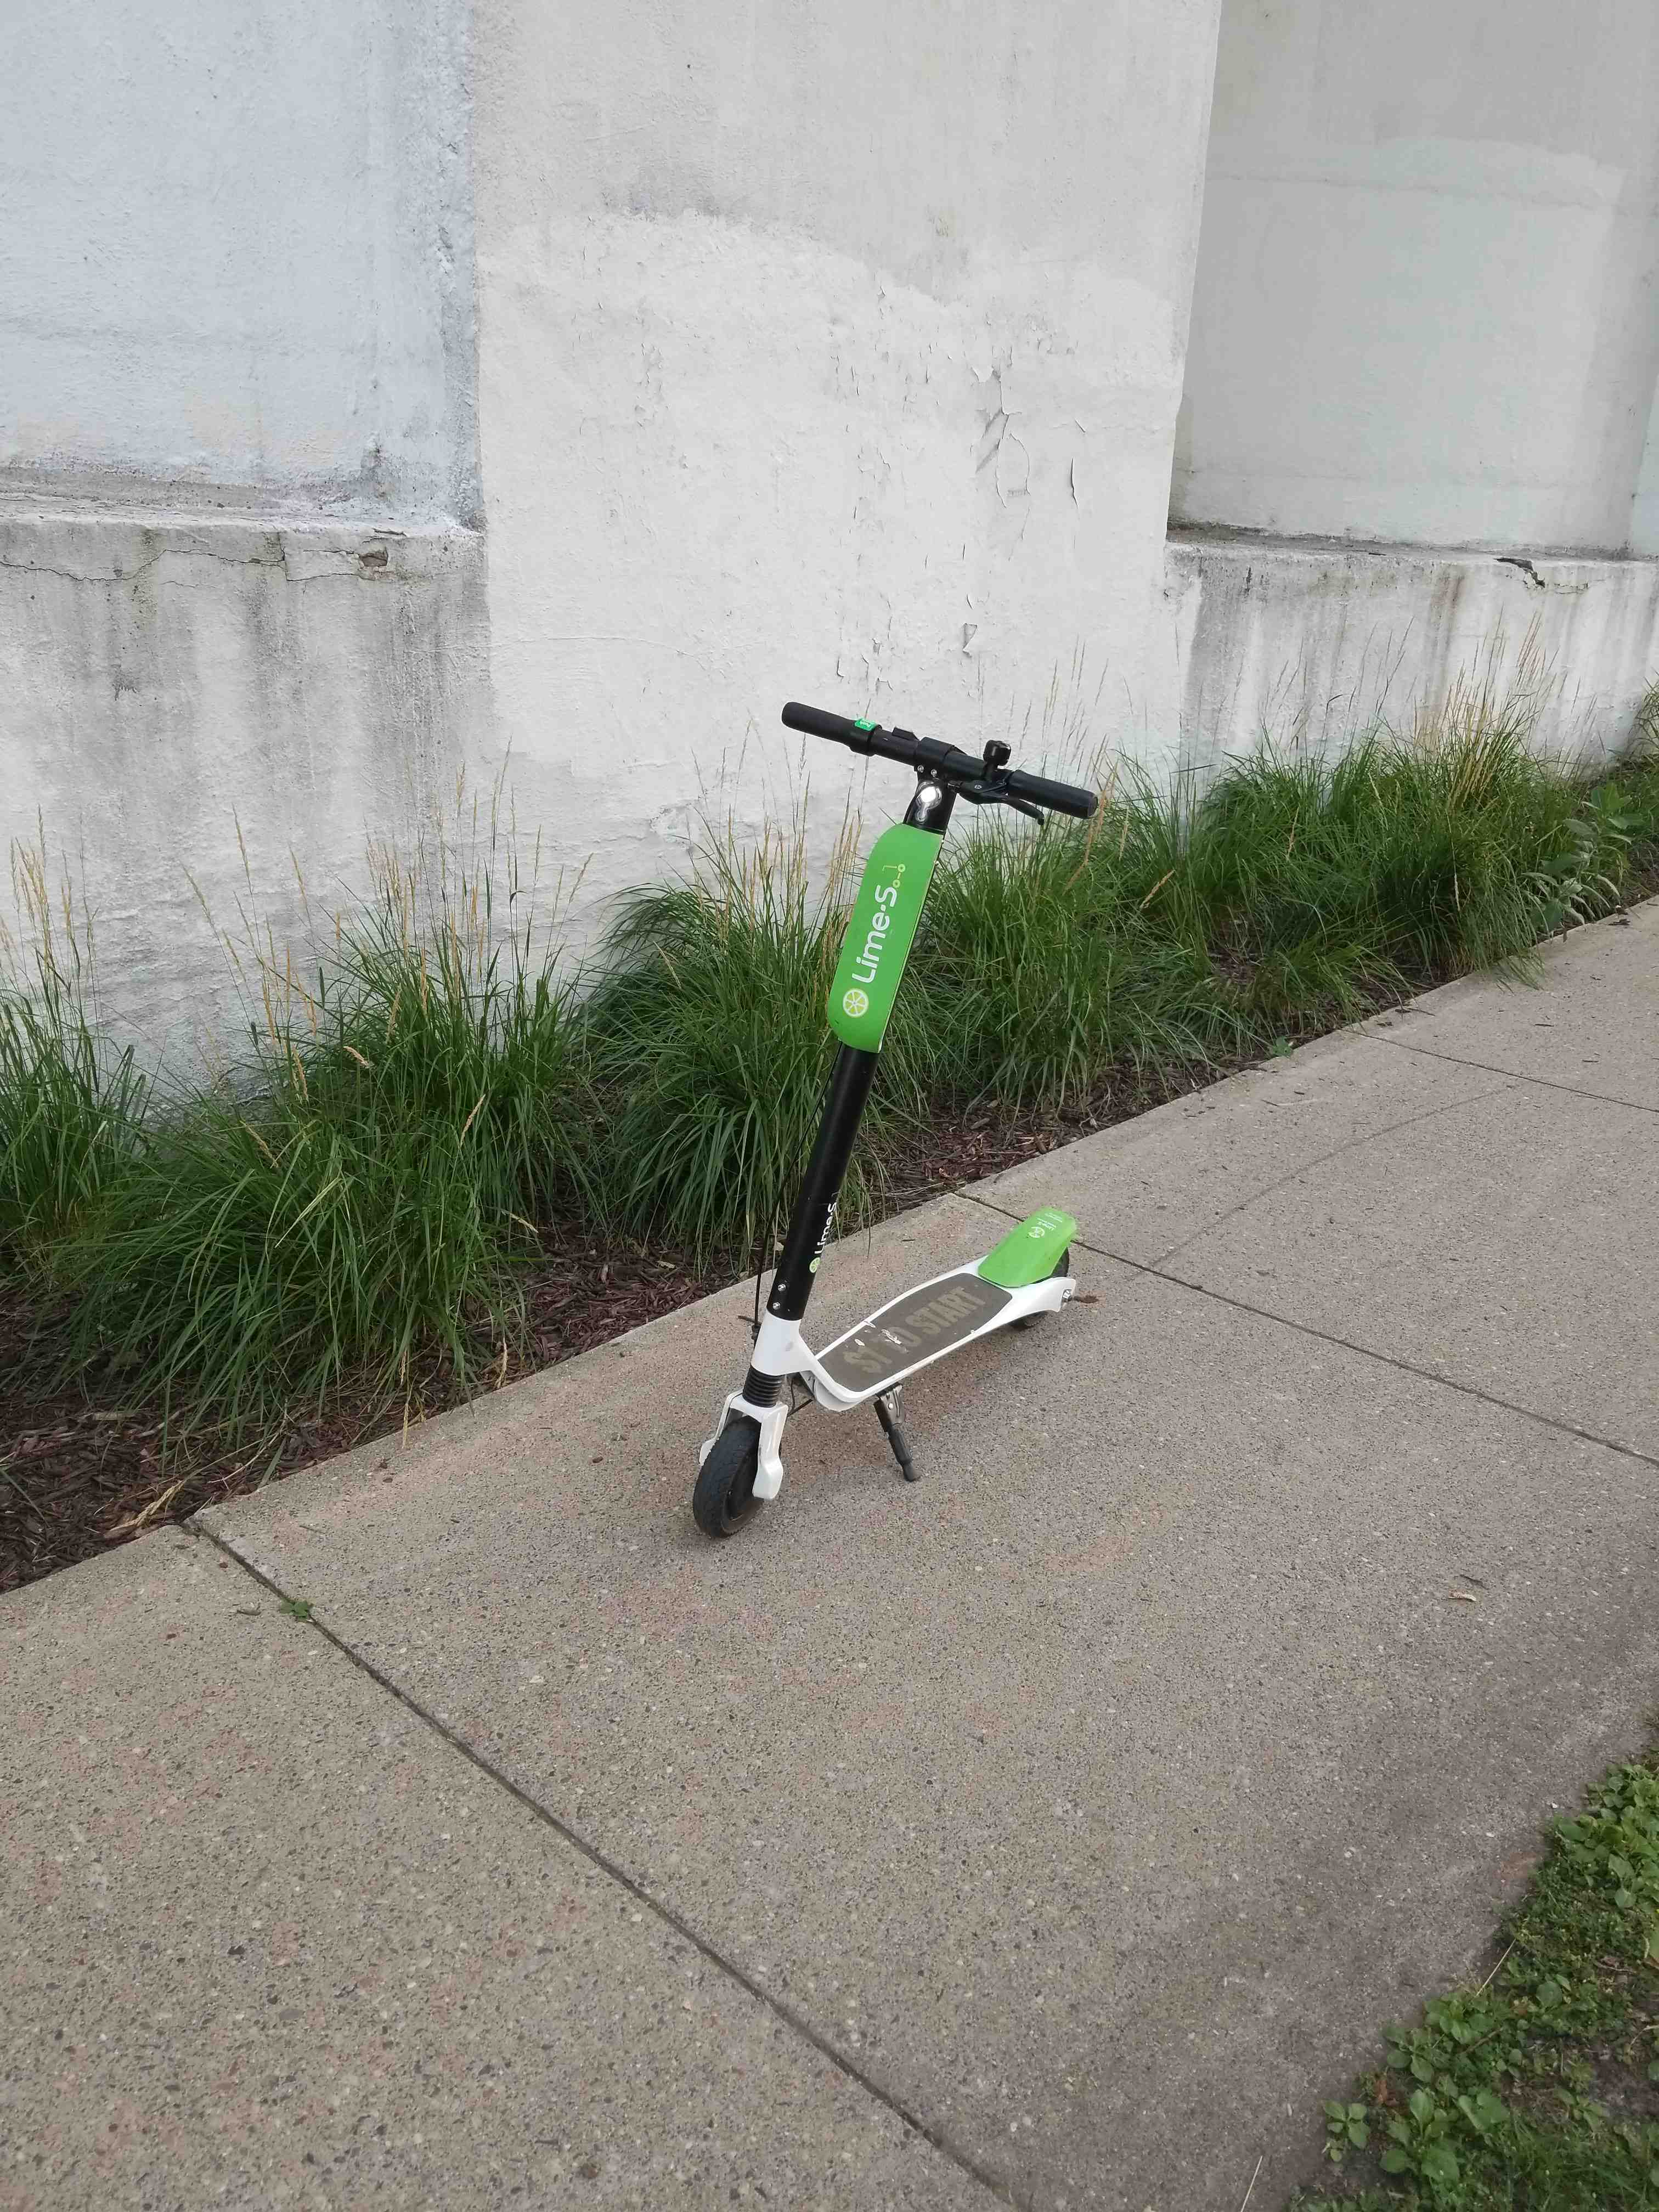scooter: (685, 671, 1148, 1561)
